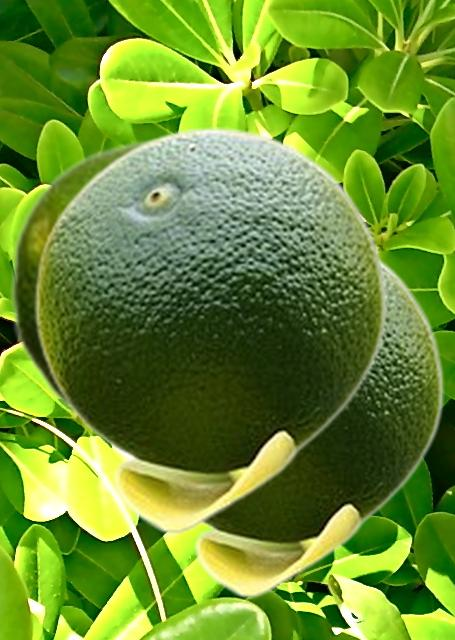calamansi: (34, 127, 386, 533), (190, 255, 443, 597), (8, 138, 149, 431)
